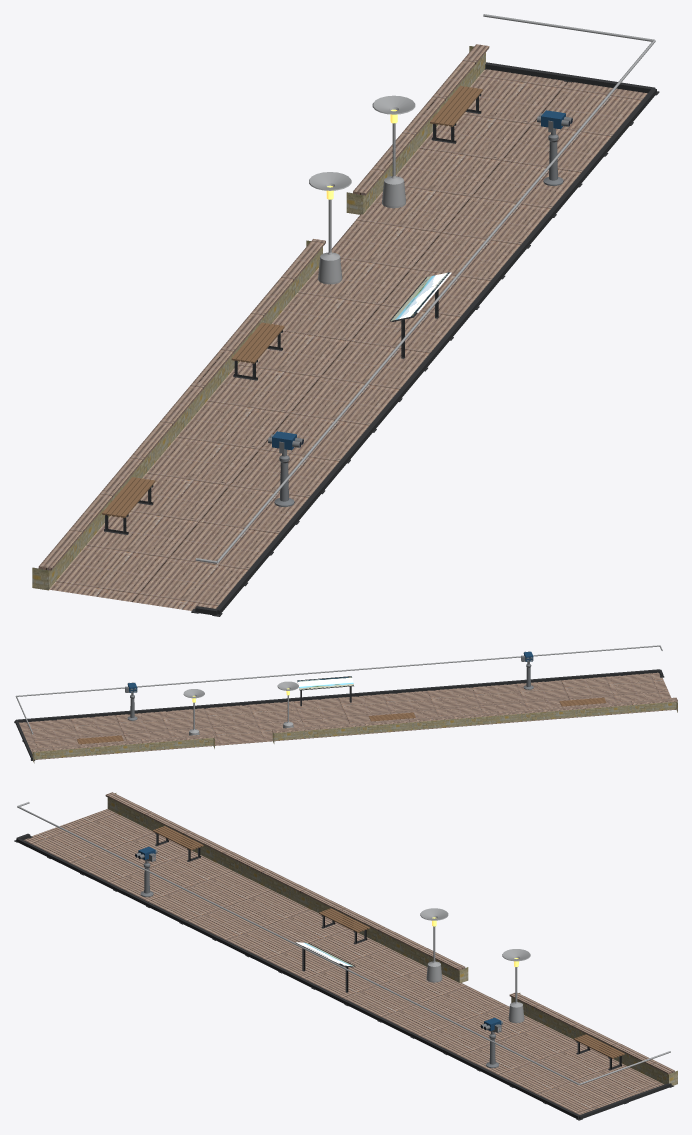
Rendered from skyline-deck.glb.
The picture shows the model from 3 angles, top to bottom: view 1: azimuth 30°, elevation 25°; view 2: azimuth 150°, elevation 25°; view 3: azimuth 270°, elevation 25°; orthographic projection. The views are drawn at different scales.
Visible parts, largest first — view 1: skyline-deck_ground_deck, skyline-deck_wood_coping, skyline-deck_metal_dark, skyline-deck_stone_schist, skyline-deck_metal_steel, skyline-deck_wood_bench, skyline-deck_metal_viewer; view 2: skyline-deck_ground_deck, skyline-deck_stone_schist, skyline-deck_metal_dark, skyline-deck_wood_coping, skyline-deck_metal_steel, skyline-deck_wood_bench, skyline-deck_glow_panel, skyline-deck_metal_viewer; view 3: skyline-deck_ground_deck, skyline-deck_stone_schist, skyline-deck_metal_dark, skyline-deck_wood_coping, skyline-deck_metal_steel, skyline-deck_wood_bench, skyline-deck_metal_viewer.
Part boxes in pixels (x1=…): skyline-deck_ground_deck: x1=49, y1=69, x2=647, y2=610; skyline-deck_wood_coping: x1=38, y1=44, x2=489, y2=570; skyline-deck_metal_dark: x1=104, y1=62, x2=659, y2=616; skyline-deck_stone_schist: x1=32, y1=46, x2=485, y2=590; skyline-deck_metal_steel: x1=195, y1=14, x2=655, y2=563; skyline-deck_wood_bench: x1=102, y1=85, x2=482, y2=517; skyline-deck_metal_viewer: x1=268, y1=111, x2=572, y2=506; skyline-deck_ground_deck: x1=19, y1=672, x2=676, y2=759; skyline-deck_stone_schist: x1=32, y1=701, x2=677, y2=763; skyline-deck_metal_dark: x1=14, y1=669, x2=664, y2=760; skyline-deck_wood_coping: x1=32, y1=697, x2=677, y2=751; skyline-deck_metal_steel: x1=15, y1=645, x2=662, y2=735; skyline-deck_wood_bench: x1=77, y1=697, x2=606, y2=744; skyline-deck_glow_panel: x1=297, y1=676, x2=353, y2=689; skyline-deck_metal_viewer: x1=125, y1=651, x2=533, y2=720; skyline-deck_ground_deck: x1=24, y1=809, x2=663, y2=1114; skyline-deck_stone_schist: x1=107, y1=793, x2=677, y2=1085; skyline-deck_metal_dark: x1=14, y1=833, x2=673, y2=1120; skyline-deck_wood_coping: x1=105, y1=792, x2=674, y2=1074; skyline-deck_metal_steel: x1=17, y1=802, x2=670, y2=1085; skyline-deck_wood_bench: x1=152, y1=826, x2=624, y2=1058; skyline-deck_metal_viewer: x1=135, y1=848, x2=502, y2=1068.
Size of the model in its own units: 22.42 by 2.18 by 19.96.
Materials: 13 (5 with a texture image).
